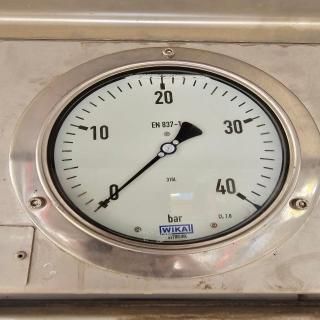gauge: (16, 59, 320, 277), (220, 177, 256, 207), (91, 185, 121, 215), (160, 140, 176, 156), (91, 205, 101, 215)
